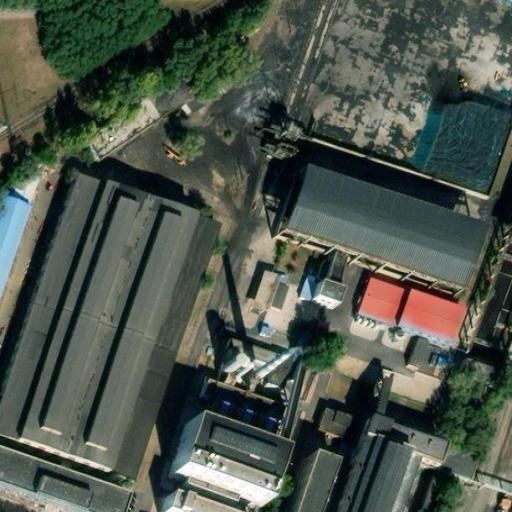building: (272, 186, 479, 314), (80, 66, 196, 157), (165, 430, 277, 512), (330, 425, 434, 512), (0, 457, 113, 512), (226, 336, 293, 396), (204, 373, 279, 426), (391, 296, 460, 352), (356, 282, 404, 328), (292, 462, 333, 512), (312, 268, 351, 318), (316, 406, 363, 447), (435, 442, 482, 480), (246, 272, 287, 315), (458, 351, 500, 379), (155, 499, 197, 512)
